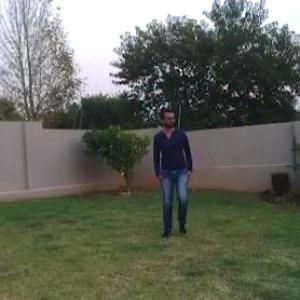follow: (149, 104, 195, 238)
